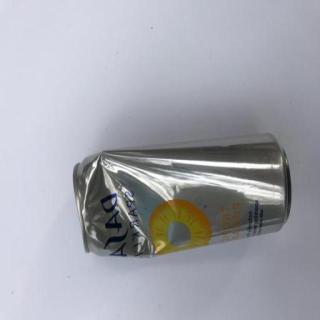Anorganik: (69, 130, 292, 260)
